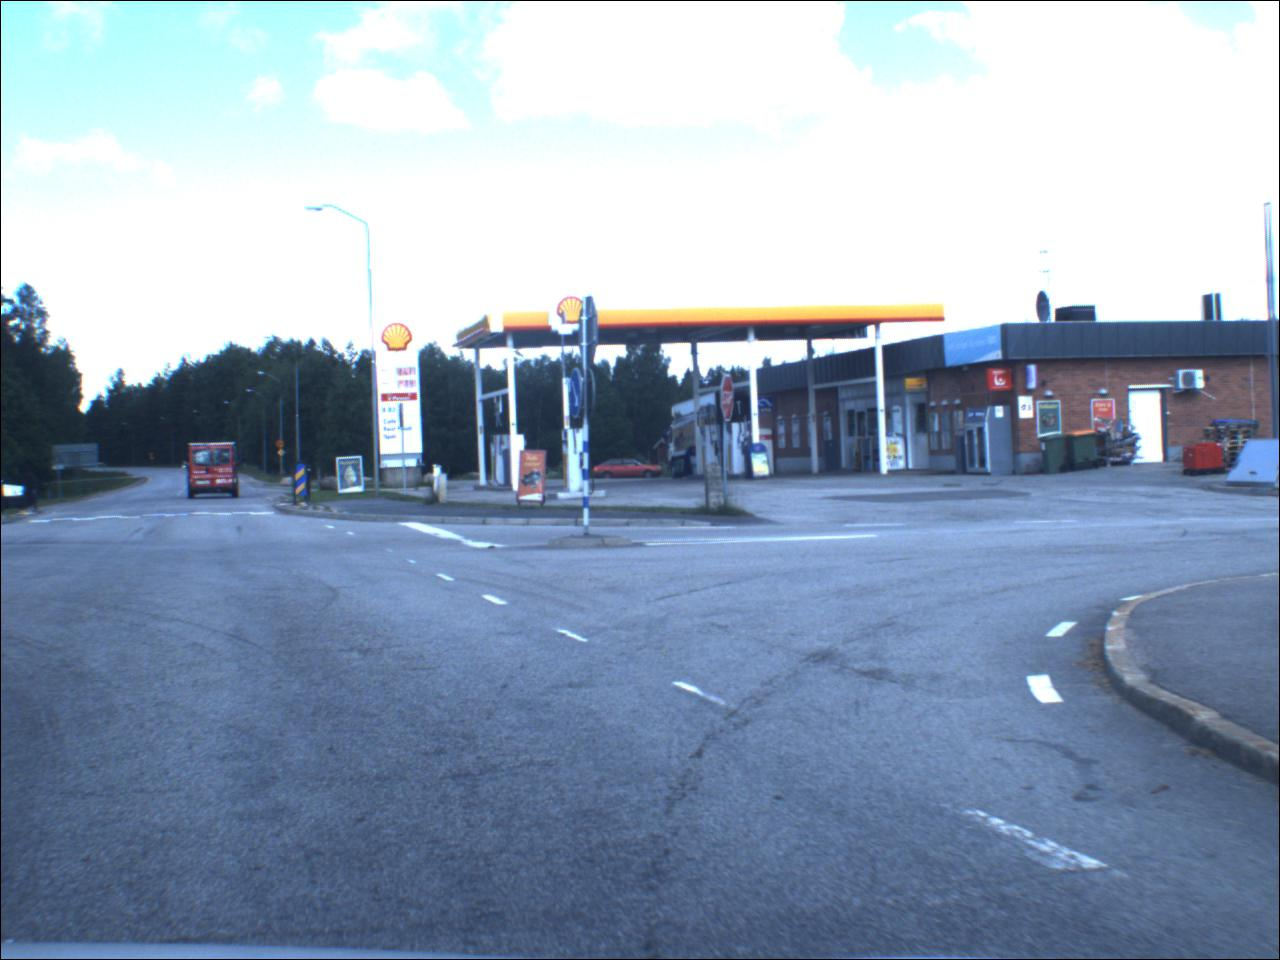50_SIGN: (277, 442, 287, 452)
PASS_RIGHT_SIDE: (567, 367, 592, 425)
PRIORITY_ROAD: (279, 450, 289, 459)
STOP: (720, 369, 739, 424)
